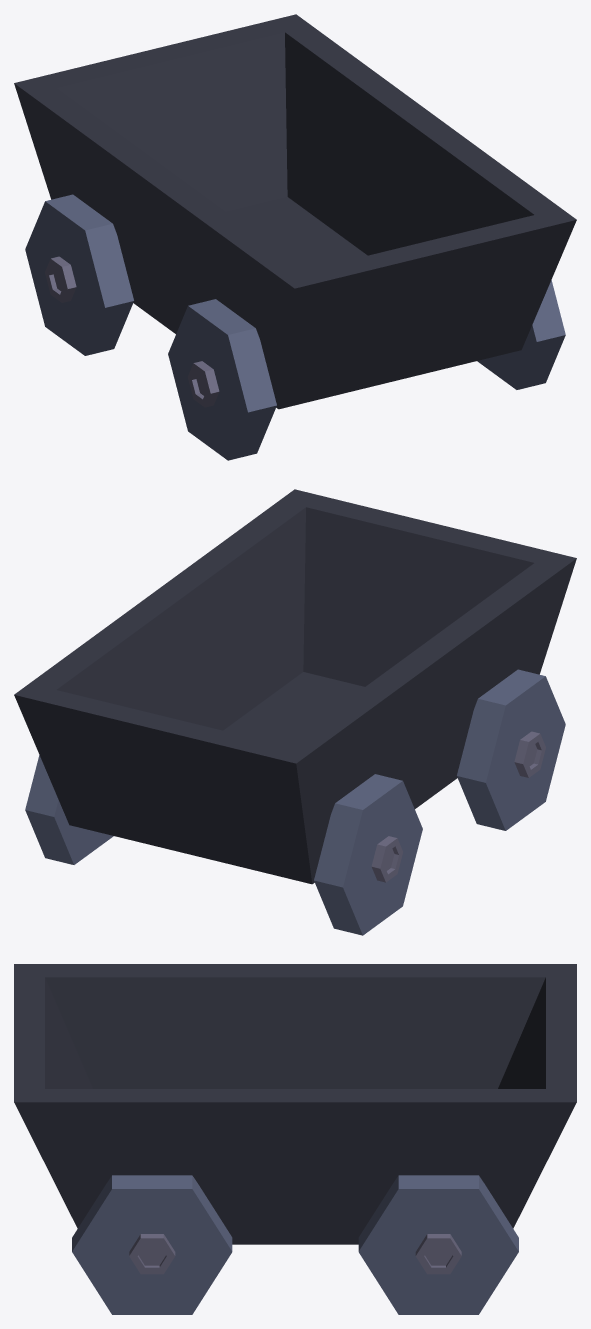
The model's file is Chariot.fbx.
3 renders of one model, top to bottom at view 1: azimuth 30°, elevation 25°; view 2: azimuth 150°, elevation 25°; view 3: azimuth 270°, elevation 25°, orthographic.
Visible parts, largest first — view 1: Cube.010, Cylinder.003, Cylinder.004; view 2: Cube.010, Cylinder.003, Cylinder.004; view 3: Cube.010, Cylinder.003, Cylinder.004.
Boxes of the visible parts, left/top/right/bottom form: Cube.010: left=14, top=14, right=576, bottom=409; Cylinder.003: left=25, top=194, right=565, bottom=460; Cylinder.004: left=45, top=256, right=219, bottom=407; Cube.010: left=14, top=489, right=576, bottom=884; Cylinder.003: left=25, top=669, right=565, bottom=935; Cylinder.004: left=371, top=731, right=545, bottom=882; Cube.010: left=14, top=964, right=576, bottom=1244; Cylinder.003: left=72, top=1175, right=518, bottom=1314; Cylinder.004: left=129, top=1234, right=461, bottom=1274.
Size of the model in its own units: 2427 by 1407 by 3519.
